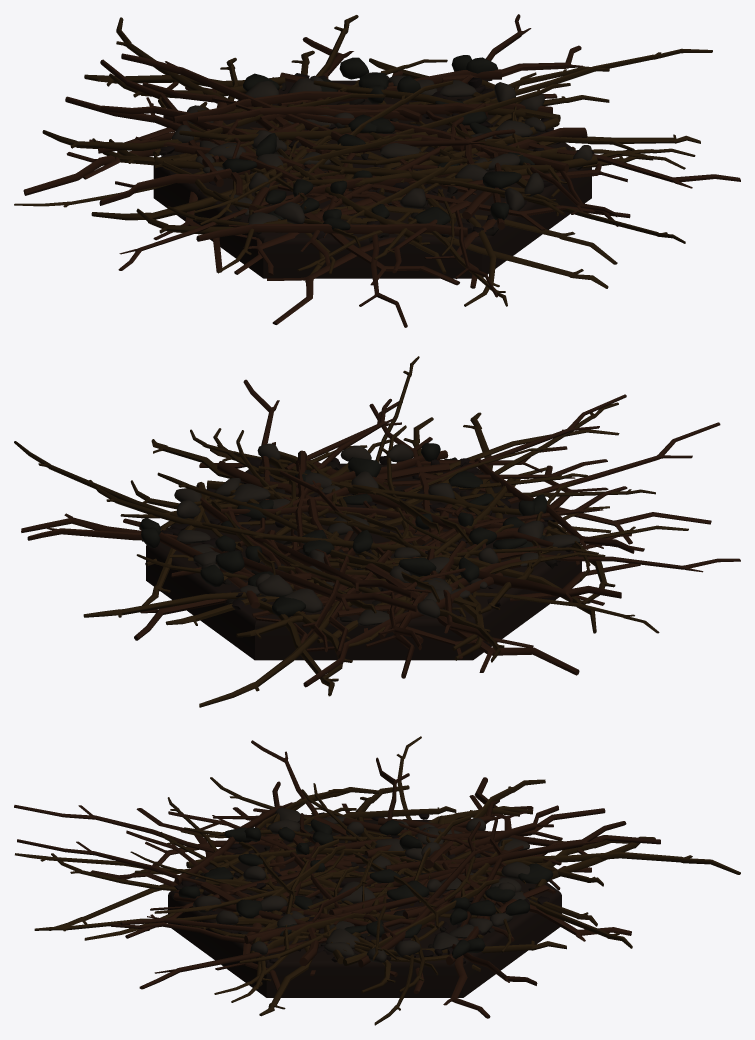
The model's file is clutter_hex.obj.
3 renders of one model, top to bottom at view 1: azimuth 30°, elevation 25°; view 2: azimuth 150°, elevation 25°; view 3: azimuth 270°, elevation 25°, orthographic. The views are drawn at different scales.
Visible parts, largest first — view 1: Cloned2_Cylinder.008, Hex_Cylinder; view 2: Cloned2_Cylinder.008, Hex_Cylinder; view 3: Cloned2_Cylinder.008, Hex_Cylinder.
Boxes of the visible parts, left/top/right/bottom form: Cloned2_Cylinder.008: left=14, top=14, right=740, bottom=327; Hex_Cylinder: left=153, top=80, right=591, bottom=278; Cloned2_Cylinder.008: left=14, top=356, right=740, bottom=707; Hex_Cylinder: left=146, top=463, right=581, bottom=660; Cloned2_Cylinder.008: left=14, top=736, right=740, bottom=1025; Hex_Cylinder: left=168, top=820, right=561, bottom=997.
Bounding box in the file's own units: 3.55 × 0.3303 × 3.69.
